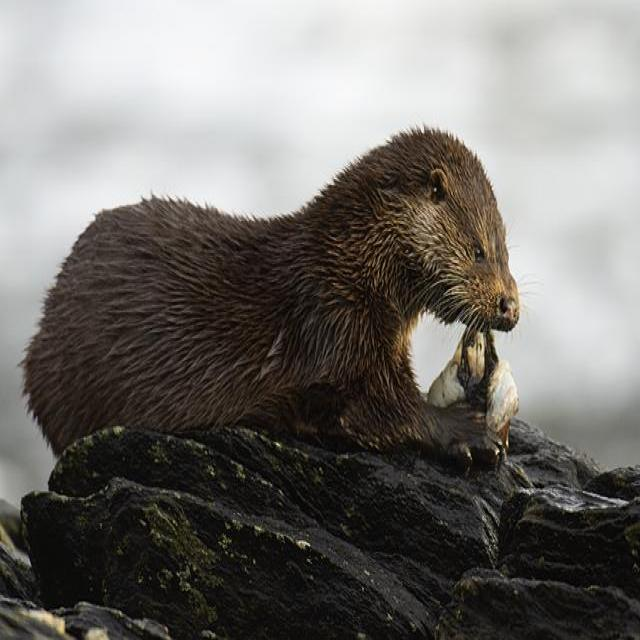otter: (29, 131, 519, 454)
